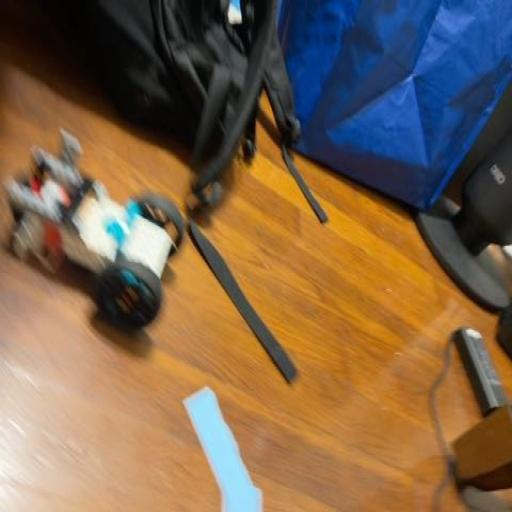Opponent: (0, 125, 190, 340)
